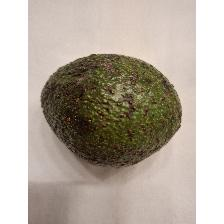Avocado: (38, 51, 186, 171)
